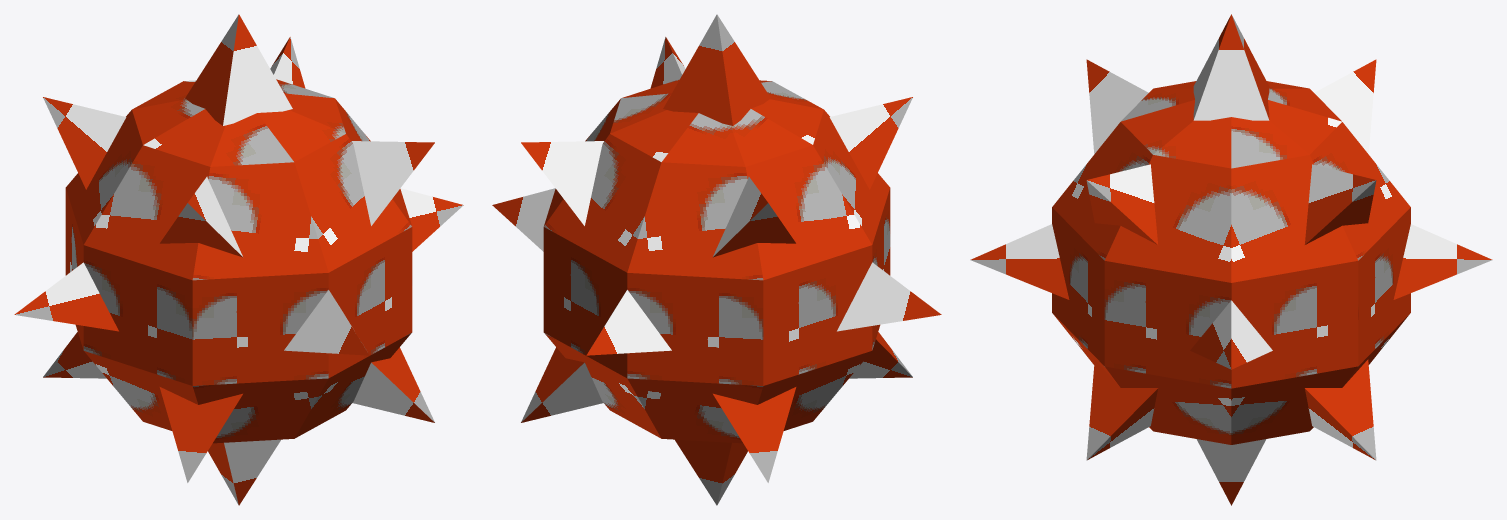
Rendered from paipo.glb.
The picture shows the model from 3 angles, left to right: view 1: azimuth 30°, elevation 25°; view 2: azimuth 150°, elevation 25°; view 3: azimuth 270°, elevation 25°; orthographic projection.
Parts seen in each view (by area): view 1: paipo; view 2: paipo; view 3: paipo.
Part boxes in pixels (x1=…): paipo: x1=14, y1=14, x2=463, y2=505; paipo: x1=492, y1=14, x2=941, y2=505; paipo: x1=970, y1=14, x2=1492, y2=505.
Bounding box in the file's own units: 8.87 × 9.27 × 8.93.
Materials: 1 (1 with a texture image).
